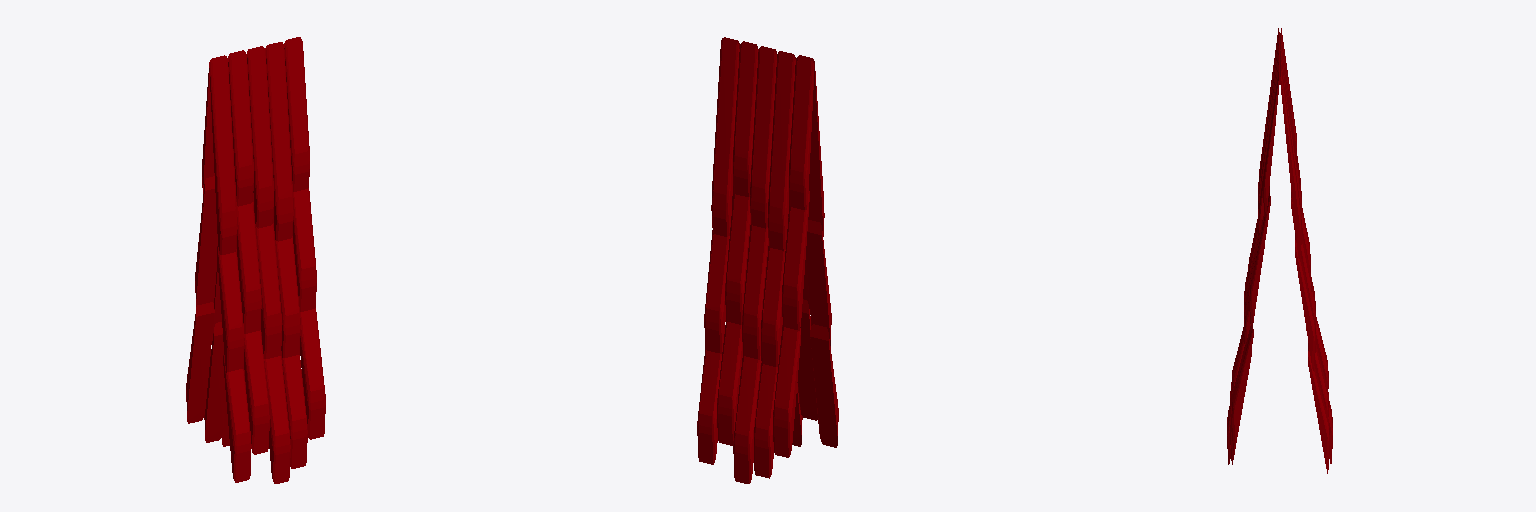
The picture shows the model from 3 angles: view 1: azimuth 30°, elevation 25°; view 2: azimuth 150°, elevation 25°; view 3: azimuth 270°, elevation 25°; orthographic projection.
Parts seen in each view (by area): view 1: Roof_(Genteng); view 2: Roof_(Genteng); view 3: Roof_(Genteng).
Boxes of the visible parts, x1,y1,x2,y2 form: Roof_(Genteng): [186, 37, 325, 483]; Roof_(Genteng): [697, 37, 838, 483]; Roof_(Genteng): [1227, 28, 1332, 473].
Size of the model in its own units: 10.2 by 43.42 by 10.06.